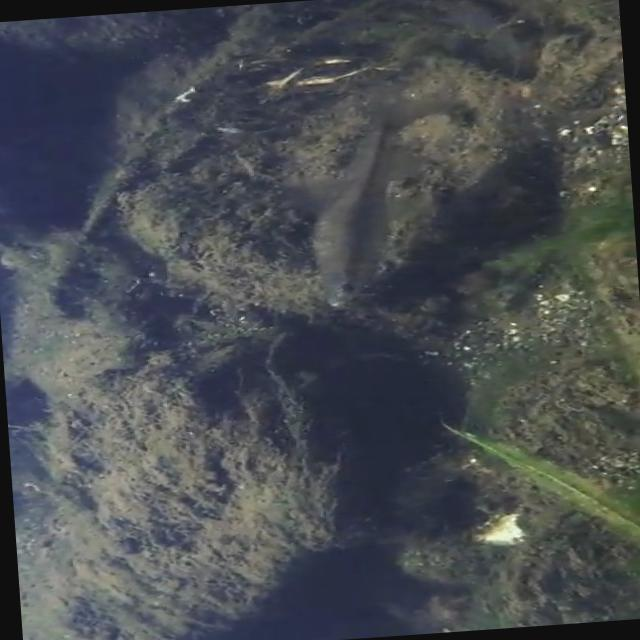Cakil Baligi: (298, 93, 468, 309)
